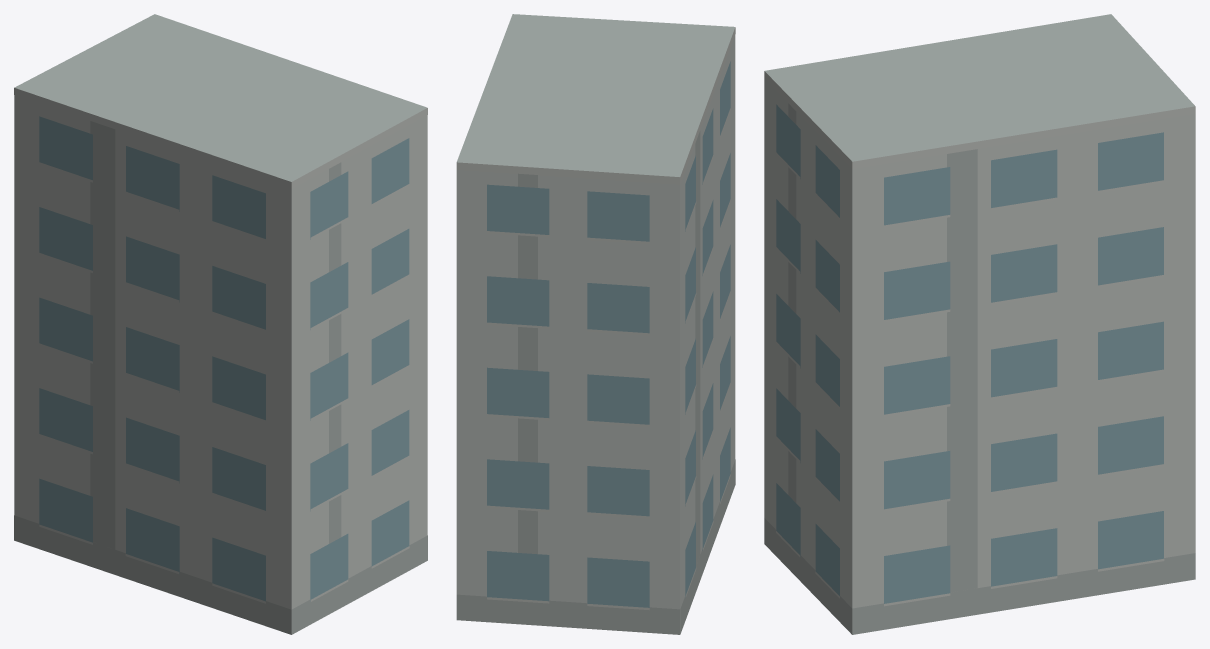
File: survey-upis-32573227.glb
3 renders of one model, left to right at view 1: azimuth 30°, elevation 25°; view 2: azimuth 150°, elevation 25°; view 3: azimuth 270°, elevation 25°, orthographic. The views are drawn at different scales.
Parts seen in each view (by area): view 1: survey-upis-32573227.tmp; view 2: survey-upis-32573227.tmp; view 3: survey-upis-32573227.tmp.
Boxes of the visible parts, left/top/right/bottom form: survey-upis-32573227.tmp: left=14, top=14, right=427, bottom=634; survey-upis-32573227.tmp: left=456, top=14, right=735, bottom=634; survey-upis-32573227.tmp: left=764, top=14, right=1195, bottom=634.
Bounding box in the file's own units: 10.22 × 15.25 × 12.61.
